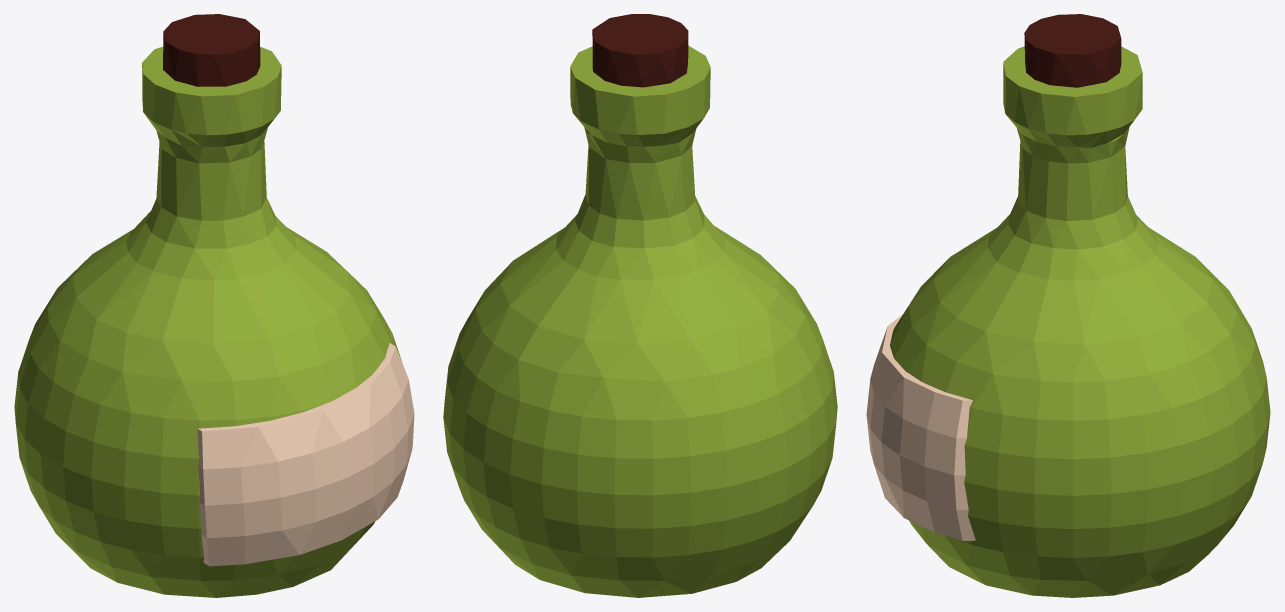
Rendered from Bottle_3.fbx.
3 renders of one model, left to right at view 1: azimuth 30°, elevation 25°; view 2: azimuth 150°, elevation 25°; view 3: azimuth 270°, elevation 25°, orthographic.
Visible parts, largest first — view 1: Bottle #3; view 2: Bottle #3; view 3: Bottle #3.
Boxes of the visible parts, x1,y1,x2,y2 form: Bottle #3: (14,14,414,597); Bottle #3: (443,14,837,597); Bottle #3: (866,14,1270,597).
Bounding box in the file's own units: 20 × 28.17 × 20.45.
